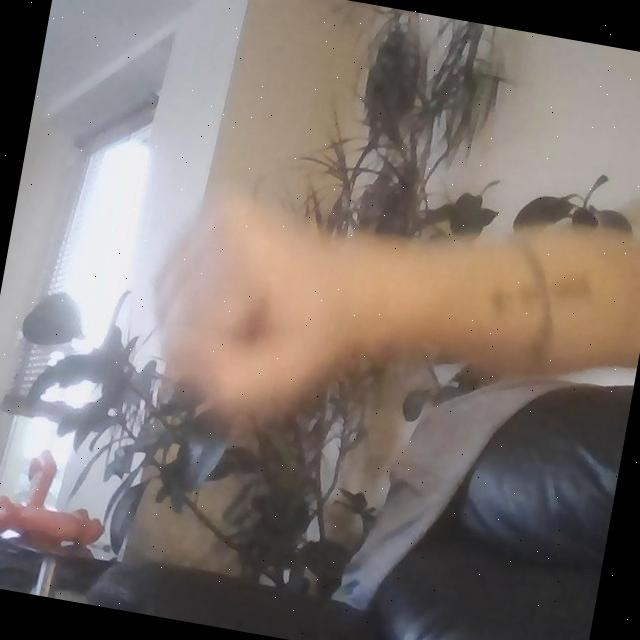rock: (144, 187, 472, 454)
